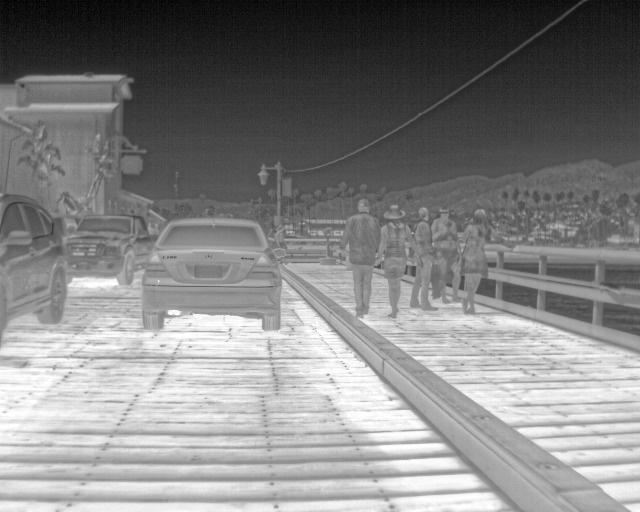bicycle: (142, 219, 287, 331), (0, 191, 71, 329), (61, 213, 157, 287)
empty: (336, 197, 383, 317), (430, 206, 465, 302), (408, 207, 439, 311), (458, 207, 489, 311), (381, 202, 407, 317)
